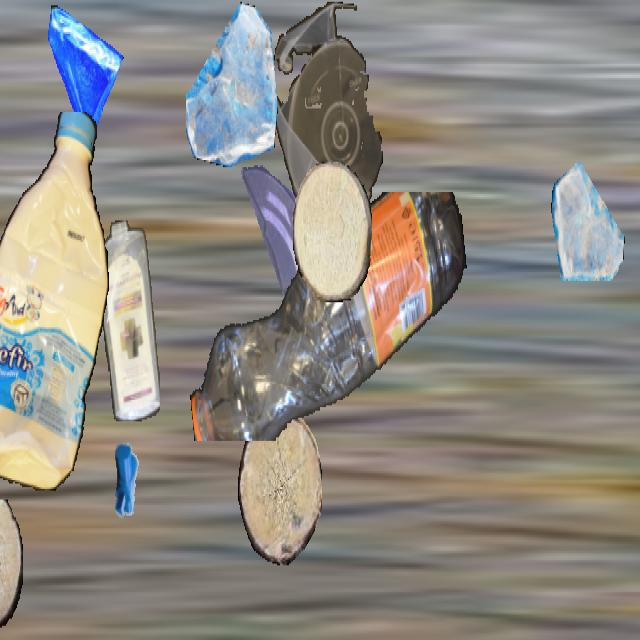glass: (186, 2, 278, 165), (237, 158, 321, 308), (42, 2, 124, 148), (551, 156, 625, 288)
metal: (96, 428, 158, 538)
plastic: (185, 192, 469, 441), (0, 112, 109, 489), (272, 2, 384, 236), (99, 220, 159, 420)
wood: (238, 412, 322, 566), (293, 162, 371, 300), (0, 500, 23, 638)
